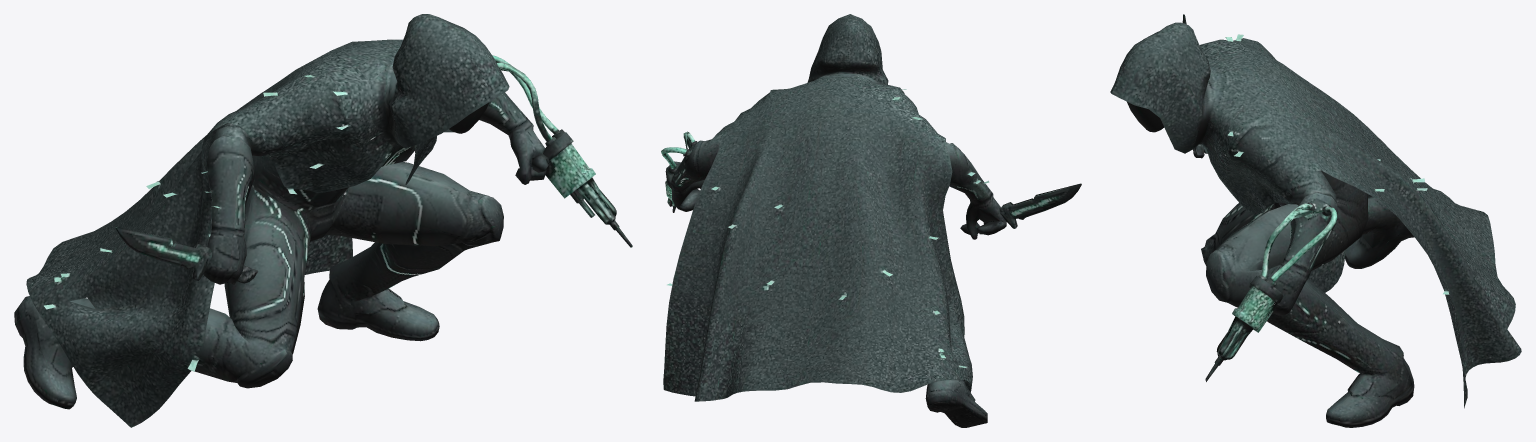
File: espion_tripod.glb
The picture shows the model from 3 angles, left to right: view 1: azimuth 30°, elevation 25°; view 2: azimuth 150°, elevation 25°; view 3: azimuth 270°, elevation 25°; orthographic projection. The views are drawn at different scales.
Visible parts, largest first — view 1: tripo_node_e4aec791-1213-4afb-a64c-80477696986c; view 2: tripo_node_e4aec791-1213-4afb-a64c-80477696986c; view 3: tripo_node_e4aec791-1213-4afb-a64c-80477696986c.
Boxes of the visible parts, x1=… form: tripo_node_e4aec791-1213-4afb-a64c-80477696986c: x1=14, y1=14, x2=632, y2=427; tripo_node_e4aec791-1213-4afb-a64c-80477696986c: x1=661, y1=14, x2=1081, y2=427; tripo_node_e4aec791-1213-4afb-a64c-80477696986c: x1=1110, y1=14, x2=1521, y2=427.
Size of the model in its own units: 0.9995 by 0.7505 by 0.7603.
Materials: 1 (1 with a texture image).
